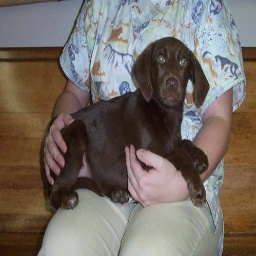dog: (40, 33, 216, 213)
